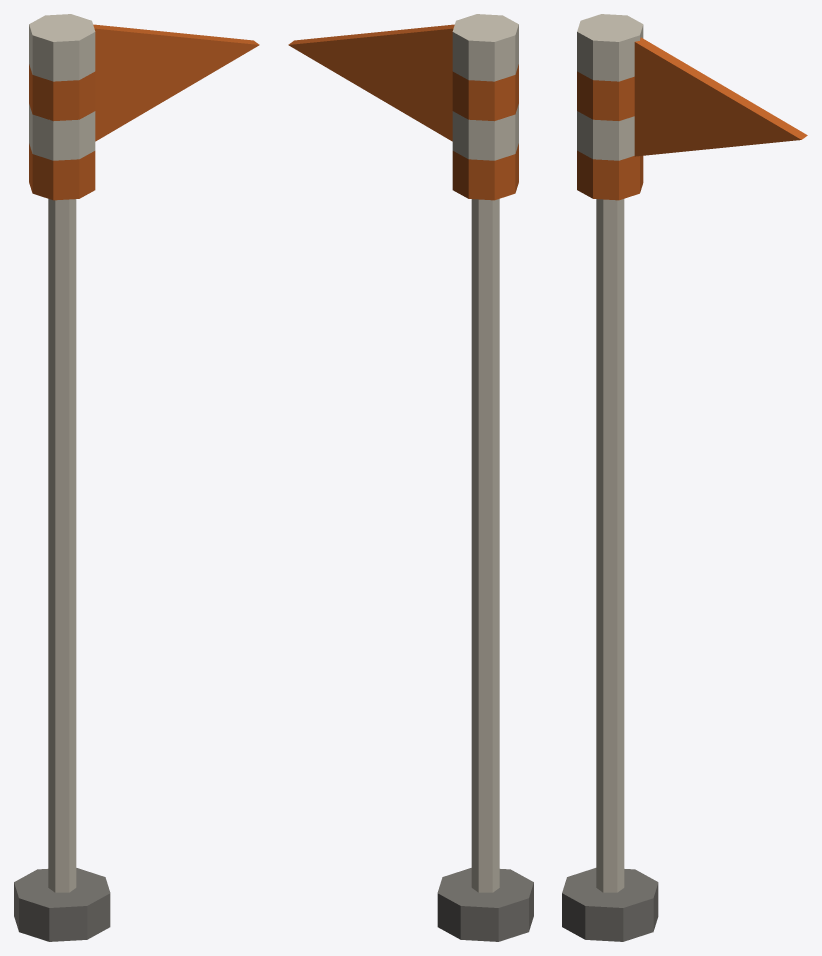
The model's file is poi_survey_stake.glb.
The picture shows the model from 3 angles, left to right: view 1: azimuth 30°, elevation 25°; view 2: azimuth 150°, elevation 25°; view 3: azimuth 330°, elevation 25°; orthographic projection.
Visible parts, largest first — view 1: SurveyStake; view 2: SurveyStake; view 3: SurveyStake.
Part boxes in pixels (bbox=[...]): SurveyStake: bbox=[14, 14, 259, 941]; SurveyStake: bbox=[288, 14, 533, 941]; SurveyStake: bbox=[562, 14, 807, 941].
Bounding box in the file's own units: 0.88 × 3.16 × 0.32.
